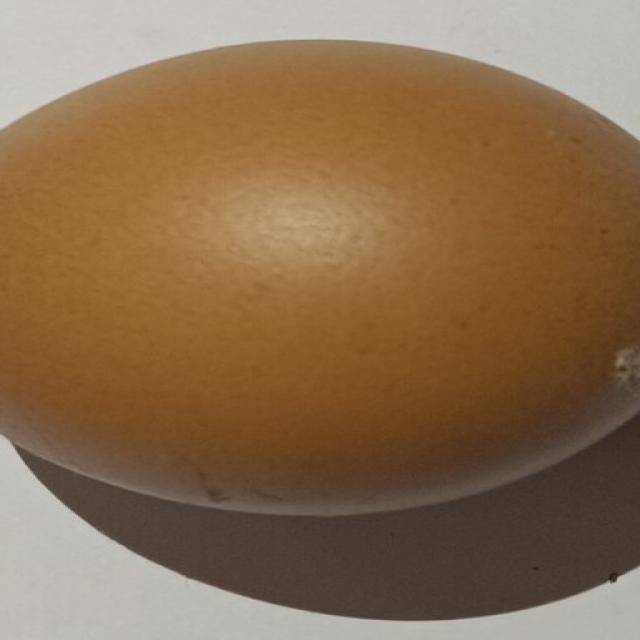fresh: (0, 36, 640, 519)
